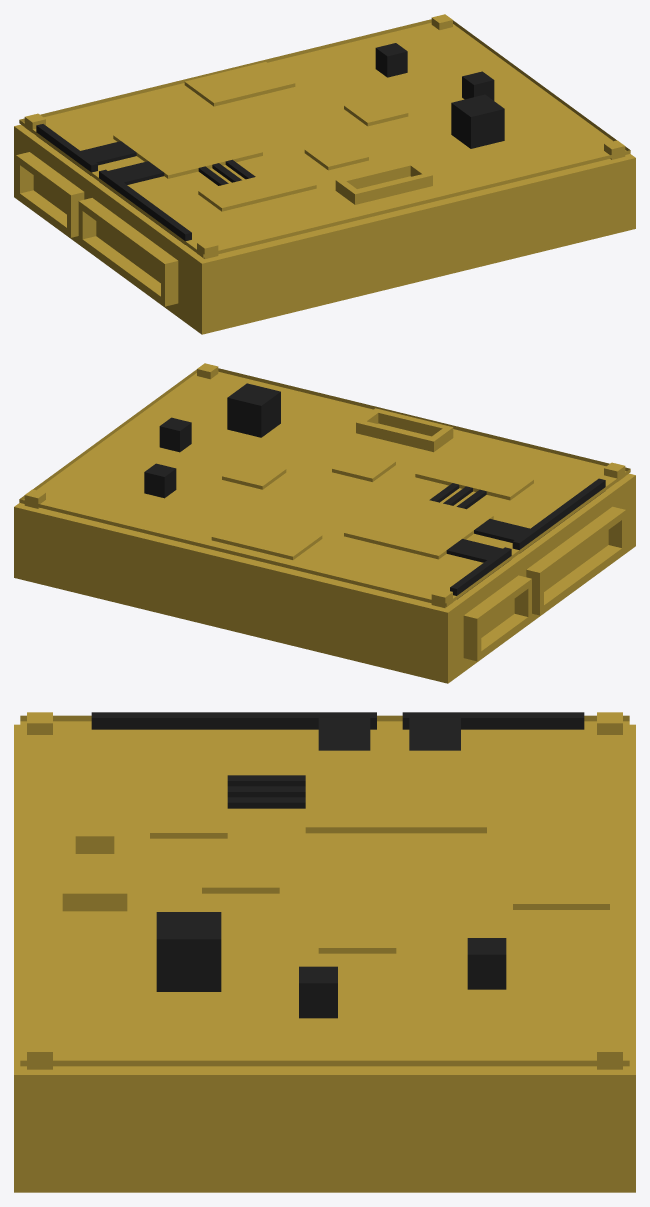
The model's file is ecuelectric.obj.
3 renders of one model, top to bottom at view 1: azimuth 30°, elevation 25°; view 2: azimuth 150°, elevation 25°; view 3: azimuth 270°, elevation 25°, orthographic. The views are drawn at different scales.
Parts seen in each view (by area): view 1: cube; view 2: cube; view 3: cube.
Boxes of the visible parts, x1,y1,x2,y2 form: cube: (14, 14, 635, 334); cube: (14, 363, 635, 683); cube: (14, 712, 635, 1192).
Bounding box in the file's own units: 0.2578 × 0.0605 × 0.1875.
